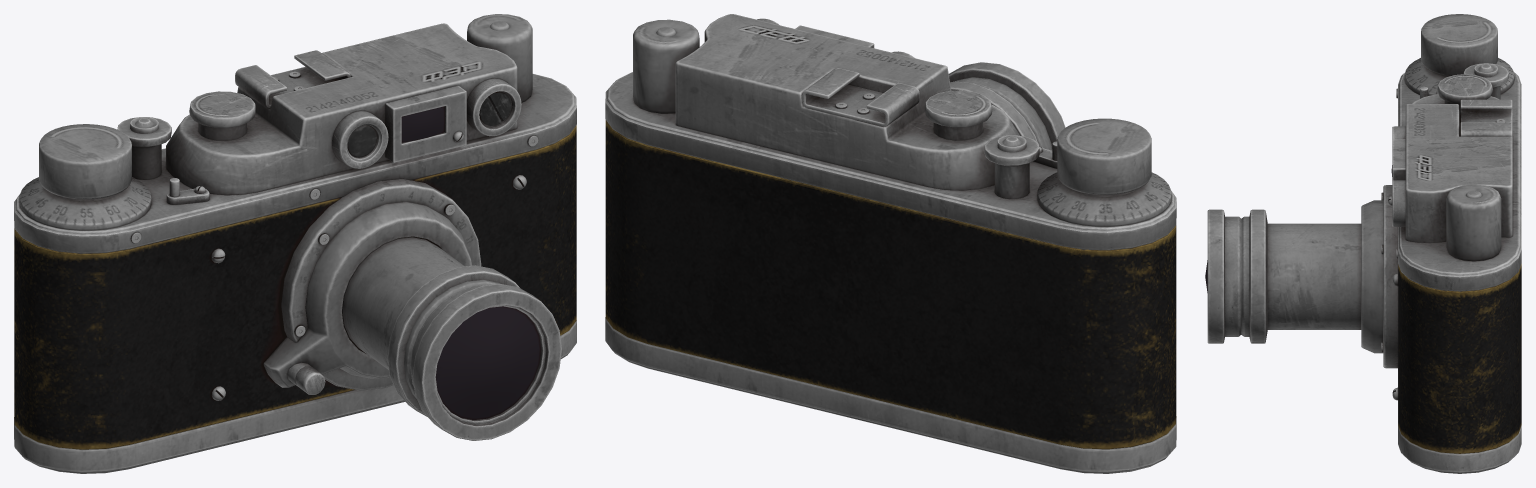
The model's file is soviet_photo_camera_fed.glb.
3 views of the same model, side by side, from view 1: azimuth 30°, elevation 25°; view 2: azimuth 150°, elevation 25°; view 3: azimuth 270°, elevation 25° (orthographic). The views are drawn at different scales.
Visible parts, largest first — view 1: Body_4, Top.001_20, Lens_0, Lens.003_2, Top_19, Lens.001_1, Lens.002_3, Top.008_24, Top.002_21, Small.004_16, Top.006_23, Top.003_22 (+8 smaller); view 2: Body_4, Top.001_20, Top_19, Lens_0, Top.002_21, Small.004_16, Top.006_23, Top.003_22; view 3: Body_4, Lens_0, Top.001_20, Top_19, Top.002_21, Lens.003_2, Lens.002_3, Small.004_16, Top.006_23, Top.003_22, Small_18, Top.008_24.
Part boxes in pixels (<box>): Body_4: <box>14,74,576,473</box>; Top.001_20: <box>166,23,517,195</box>; Lens_0: <box>342,236,561,440</box>; Lens.003_2: <box>263,202,471,387</box>; Top_19: <box>19,124,151,230</box>; Lens.001_1: <box>435,306,540,419</box>; Lens.002_3: <box>281,178,481,390</box>; Top.008_24: <box>385,85,466,162</box>; Top.002_21: <box>467,14,532,102</box>; Small.004_16: <box>235,50,350,108</box>; Top.006_23: <box>189,91,255,140</box>; Top.003_22: <box>117,117,171,179</box>; Body_4: <box>605,72,1176,473</box>; Top.001_20: <box>675,14,1019,190</box>; Top_19: <box>1037,118,1171,226</box>; Lens_0: <box>948,62,1065,150</box>; Top.002_21: <box>633,19,699,113</box>; Small.004_16: <box>802,68,919,126</box>; Top.006_23: <box>924,90,992,140</box>; Top.003_22: <box>984,135,1039,198</box>; Body_4: <box>1398,72,1521,473</box>; Lens_0: <box>1207,209,1361,343</box>; Top.001_20: <box>1405,94,1512,242</box>; Top_19: <box>1404,14,1514,95</box>; Top.002_21: <box>1446,184,1501,261</box>; Lens.003_2: <box>1361,200,1383,353</box>; Lens.002_3: <box>1383,185,1398,368</box>; Small.004_16: <box>1460,99,1512,136</box>; Top.006_23: <box>1437,74,1492,113</box>; Top.003_22: <box>1463,63,1508,99</box>; Small_18: <box>1392,180,1405,226</box>; Top.008_24: <box>1392,139,1405,180</box>.
Size of the model in its own units: 4.42 by 2.41 by 2.68.
1 material, 1 textured.
